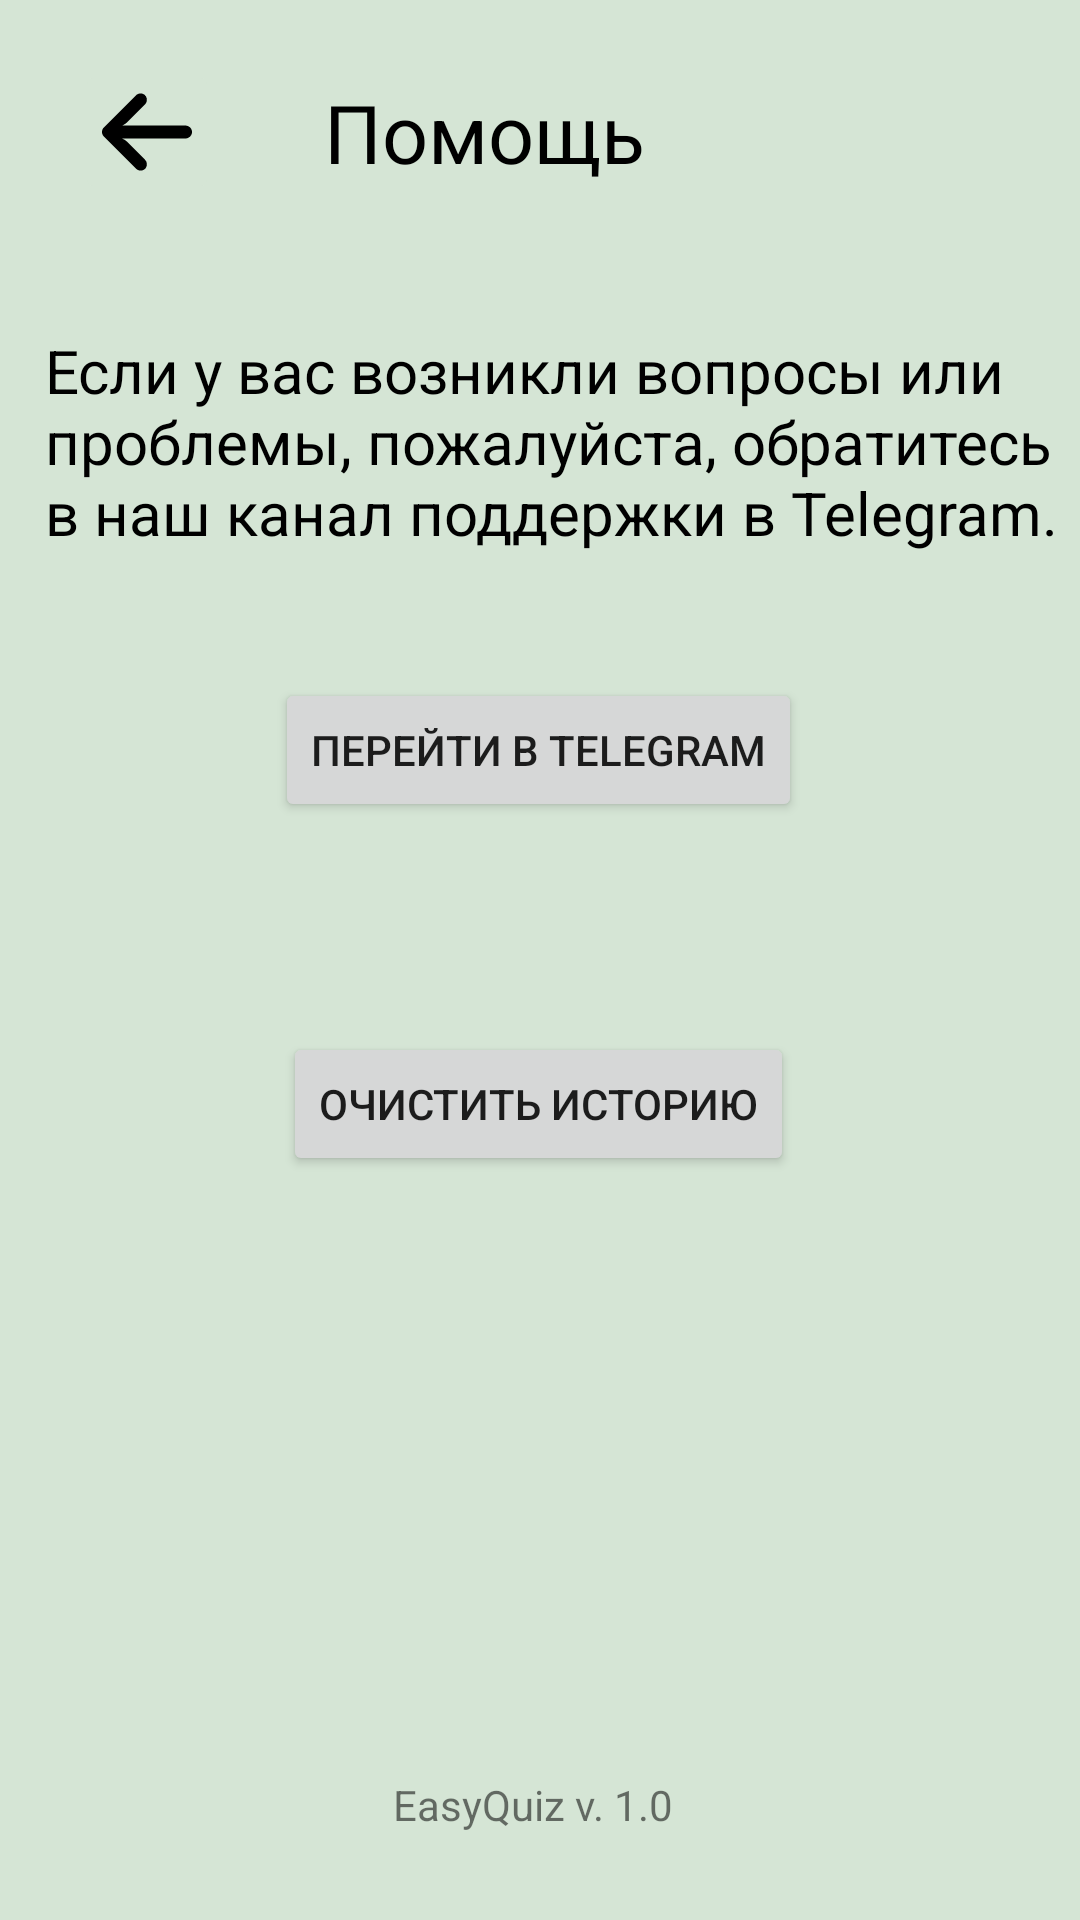

Icon click points for this 1080w x 1920h phone screenshot, format point (x, y):
Назад: point (147, 132)
